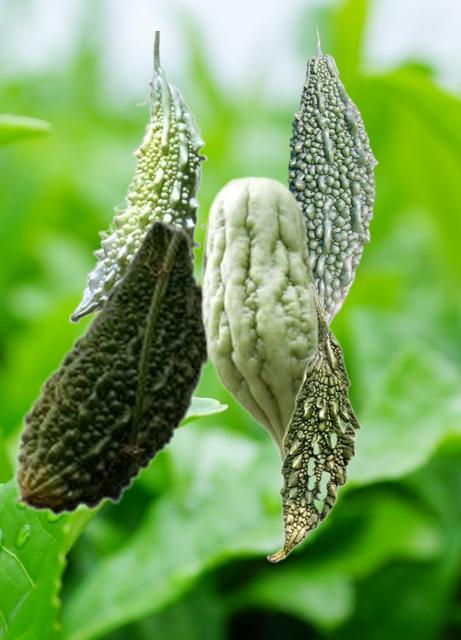ampalaya: (13, 218, 210, 516), (68, 31, 207, 323), (200, 175, 321, 479), (287, 26, 377, 324), (266, 282, 361, 561)
